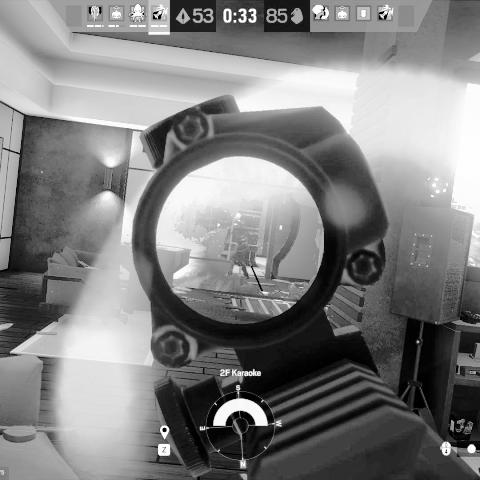Character: (218, 212, 252, 276)
Head: (229, 211, 241, 223)
